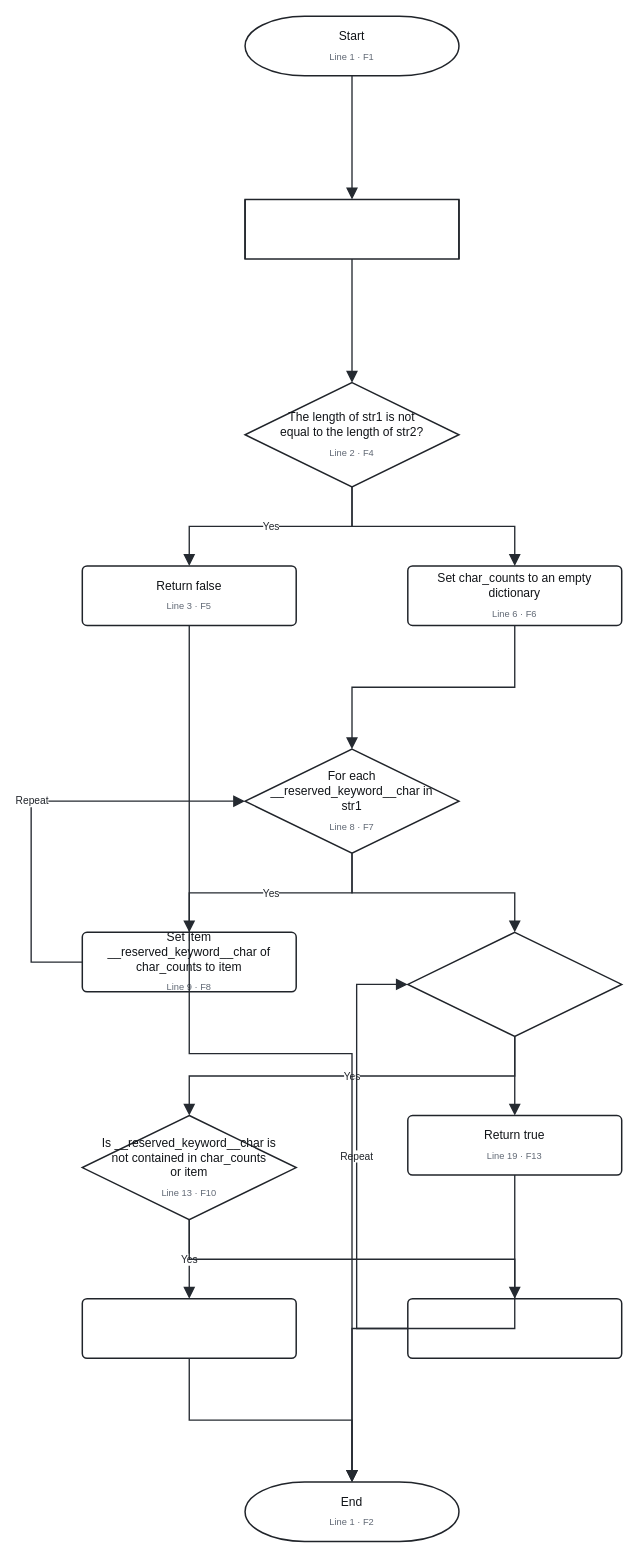
This 639x1559 diagram has some shape labels left out. Each missing label, with the centre of its shape:
"For each __reserved_keyword__char in str2 Line 12 · F9" belongs at (514,984).
"Return false Line 14 · F11" belongs at (188,1328).
"Run function AreAnagrams with str1, str2 Line 1 · F3" belongs at (351,228).
"Set item __reserved_keyword__char of char_counts to item Line 16 · F12" belongs at (514,1328).
